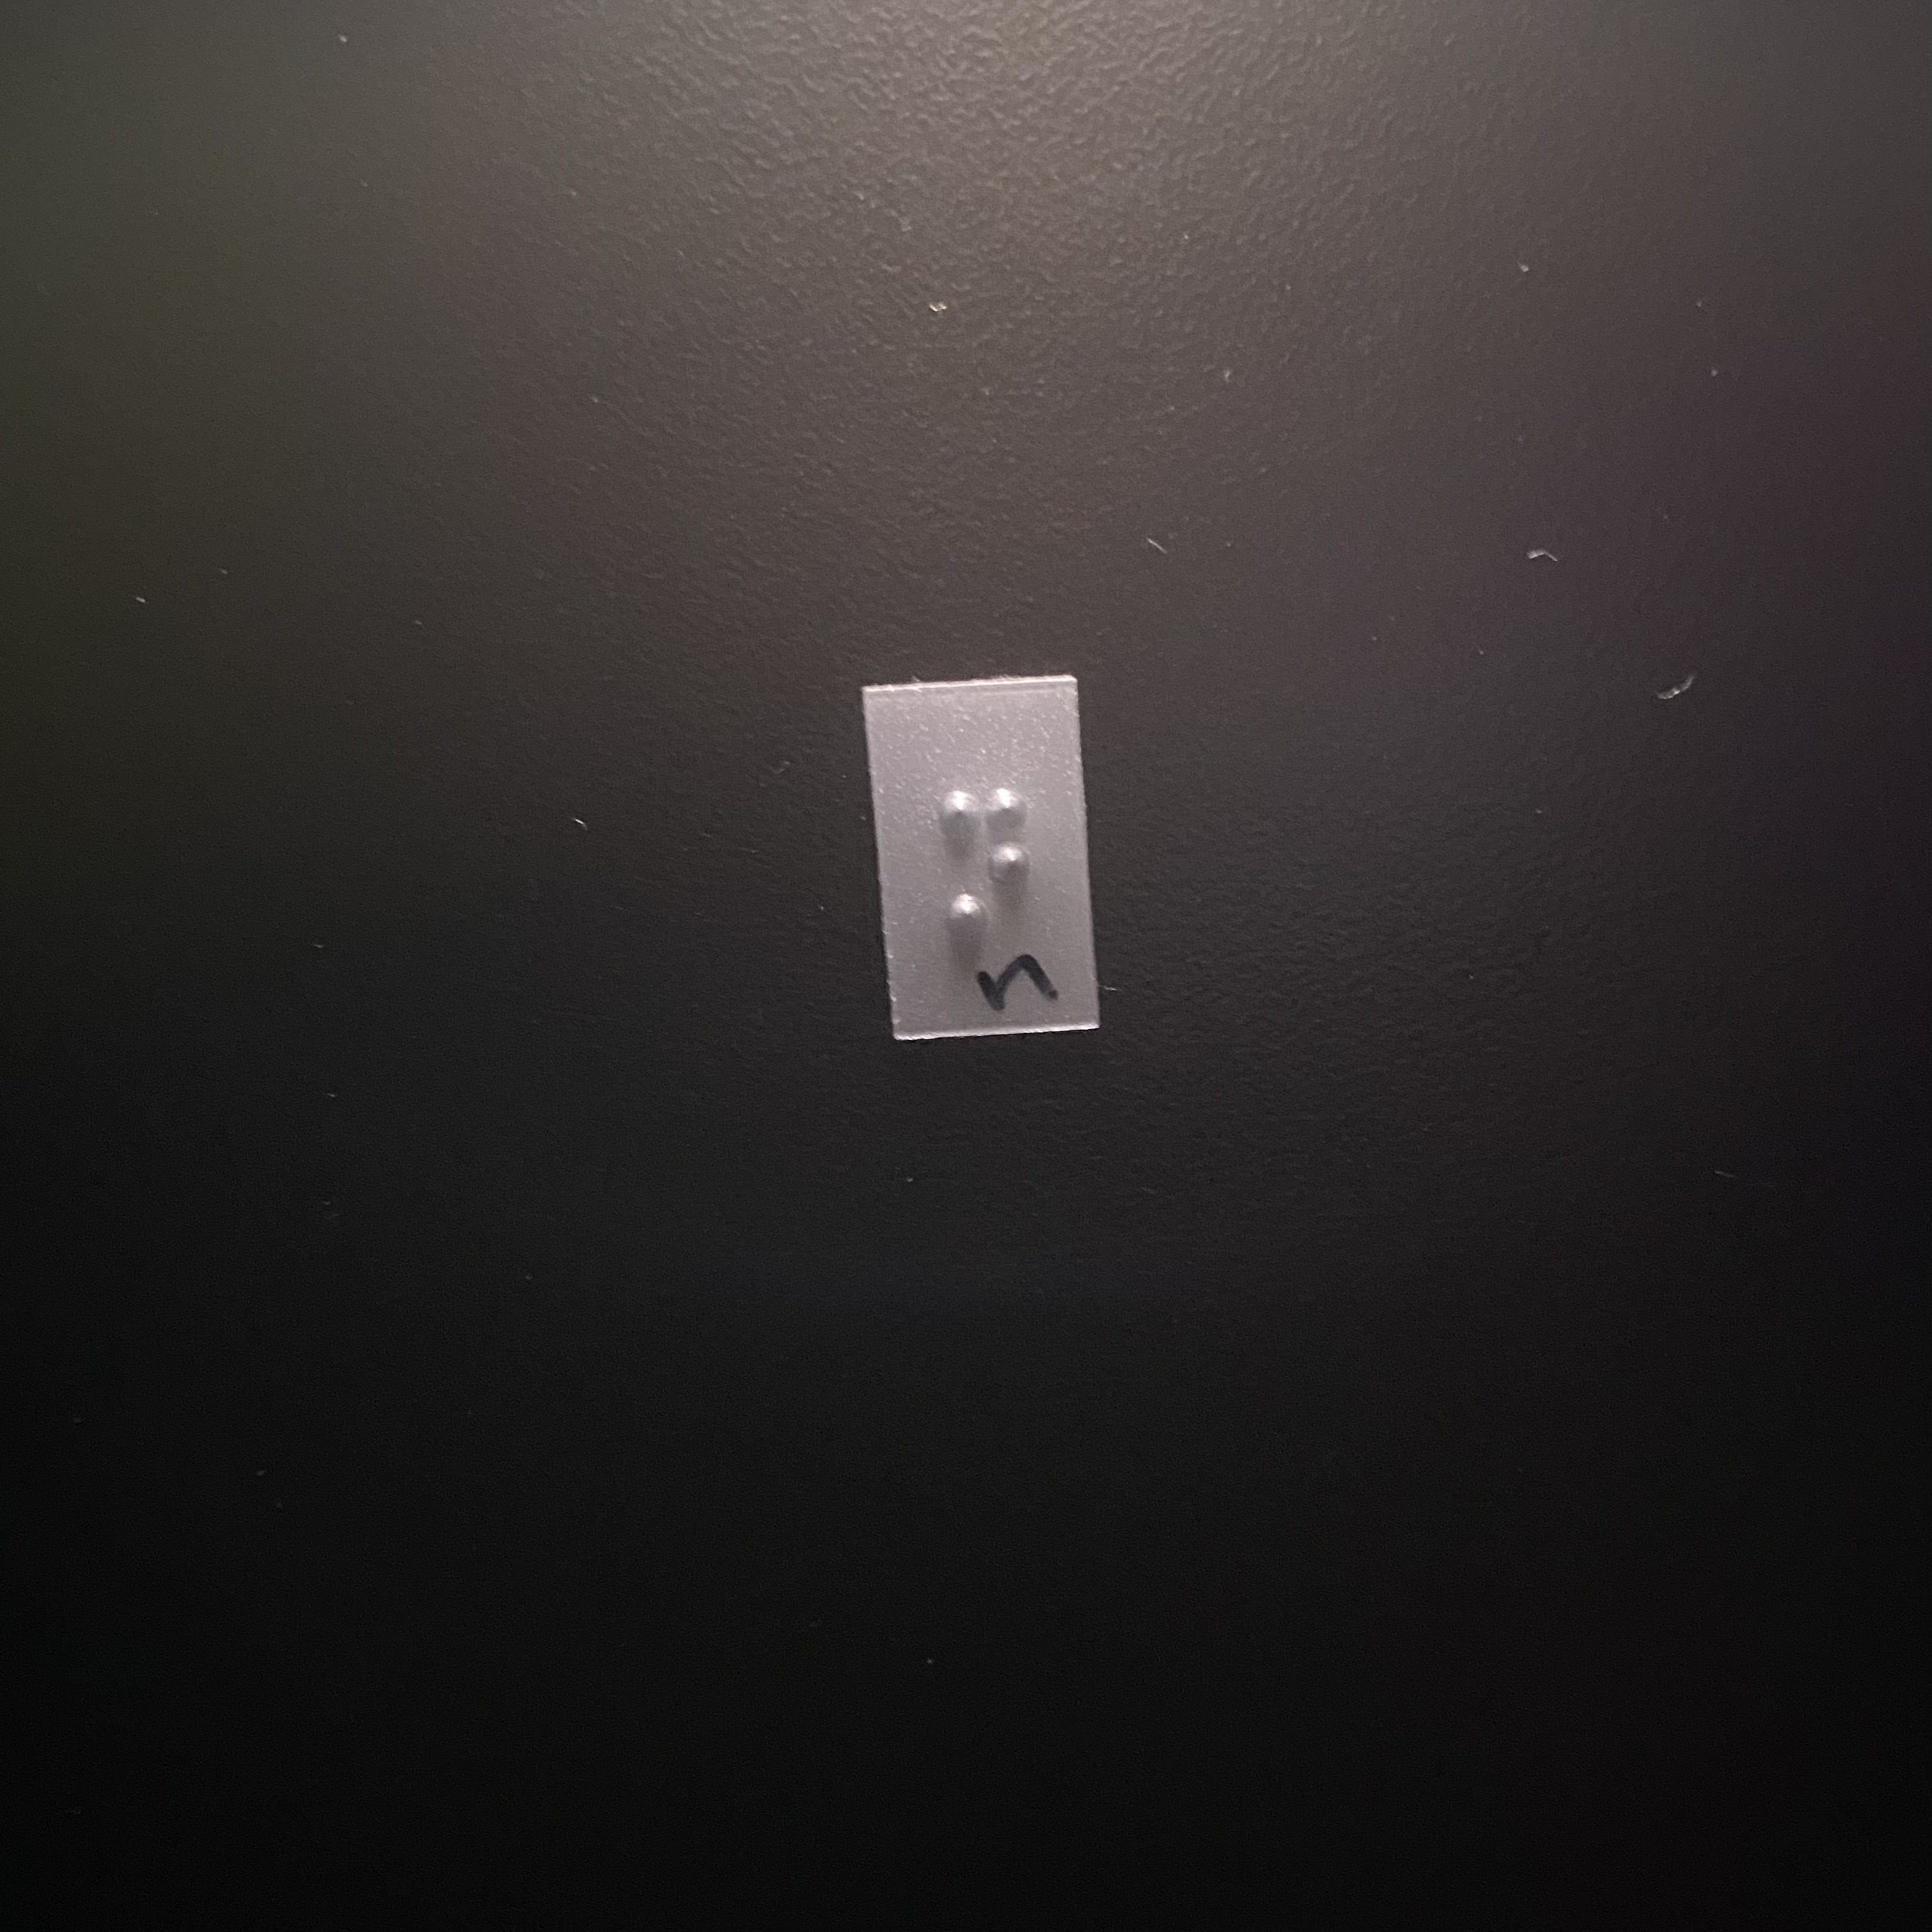n: (931, 766, 1045, 960)
